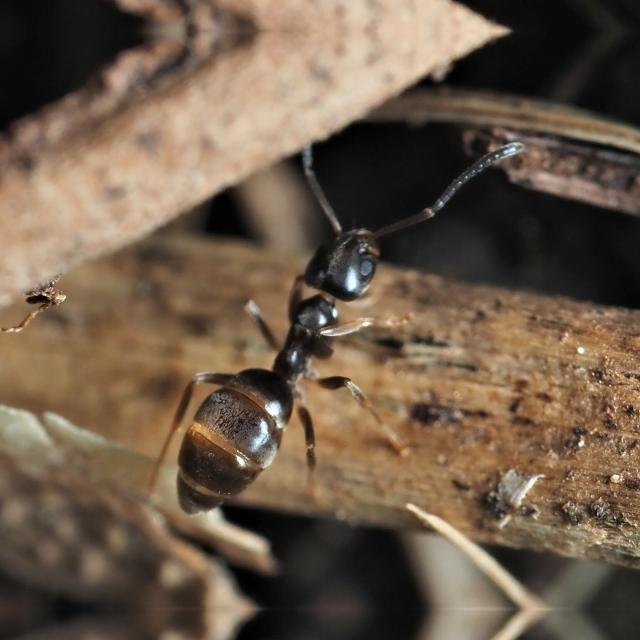Tapinoma: (144, 182, 444, 526)
